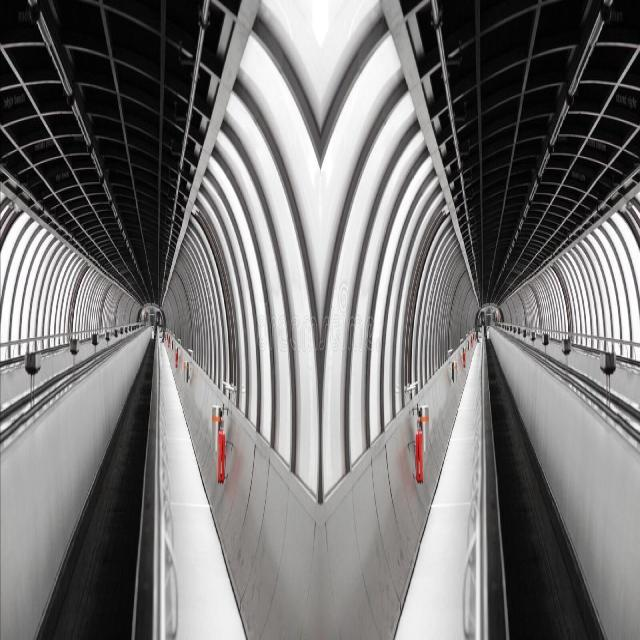FireExtinguisher: (412, 400, 426, 488), (215, 409, 228, 486)
